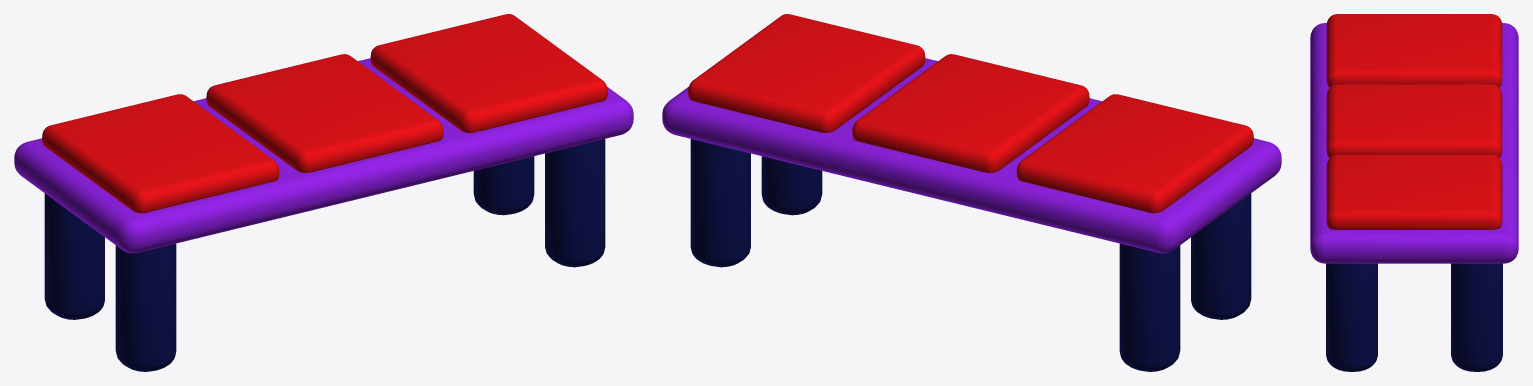
The model's file is Bench.fbx.
3 renders of one model, left to right at view 1: azimuth 30°, elevation 25°; view 2: azimuth 150°, elevation 25°; view 3: azimuth 270°, elevation 25°, orthographic. The views are drawn at different scales.
Visible parts, largest first — view 1: Bench; view 2: Bench; view 3: Bench.
Part boxes in pixels (<box>): Bench: <box>14,14,633,371</box>; Bench: <box>662,14,1281,371</box>; Bench: <box>1310,14,1518,371</box>.
Size of the model in its own units: 100 by 34.64 by 40.
